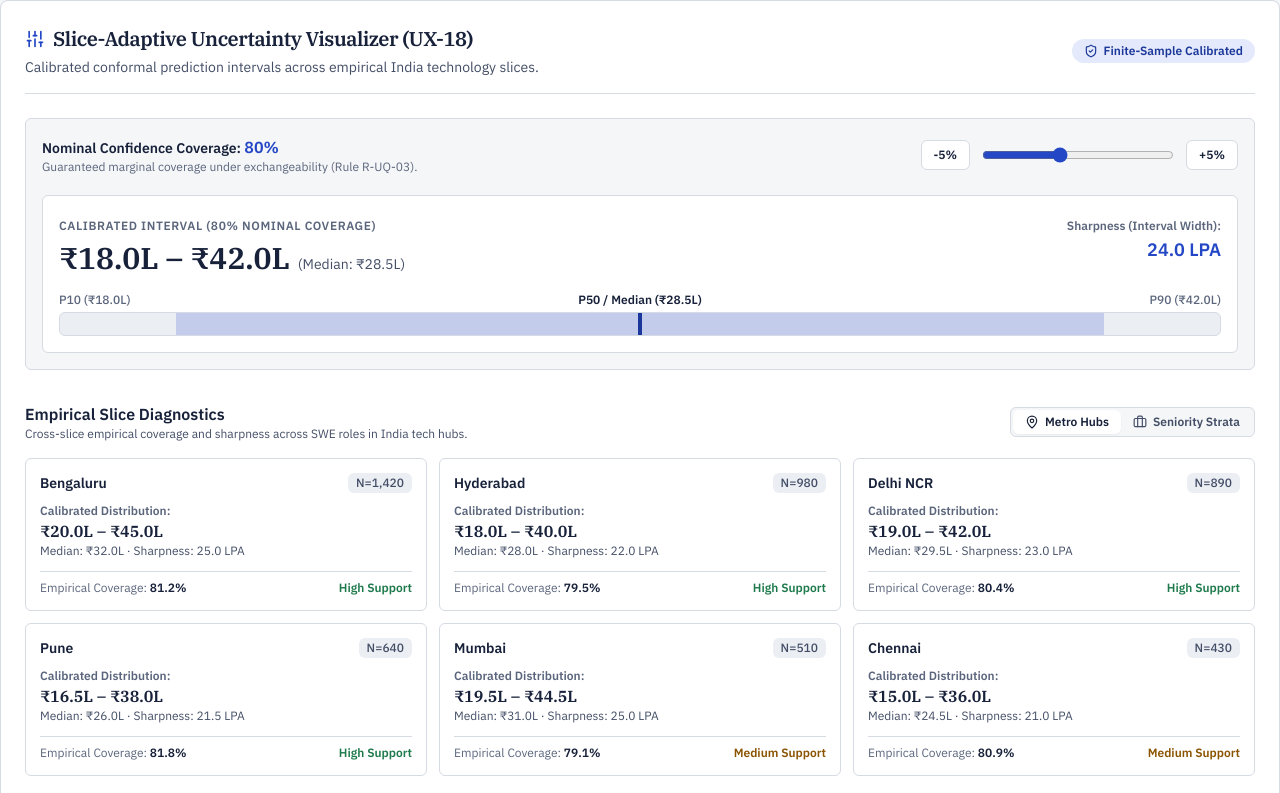
Test: SliceUncertaintyVisualizer (UX-18, Task T21.02) › dynamically adjusts interval width when coverage slider changes
The width and height of the screenshot is (1280, 793).
Set the slider named "Nominal confidence coverage percentage" to "70" at (990, 155), box [982,151,1174,159]
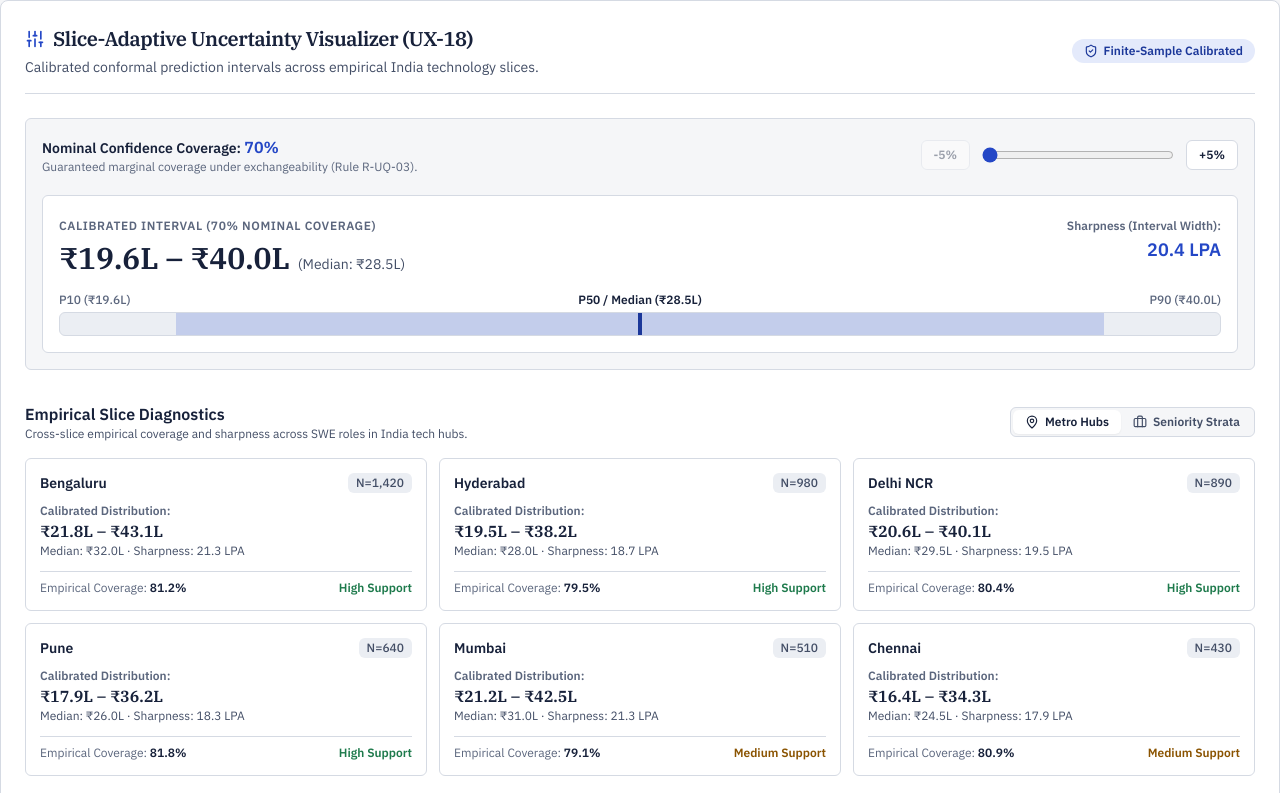
Now the text "₹19.6L – ₹40.0L(Median: ₹28.5L)" is shown, box [59,240,405,276]
Set the slider named "Nominal confidence coverage percentage" to "95" at (1166, 155), box [982,151,1174,159]
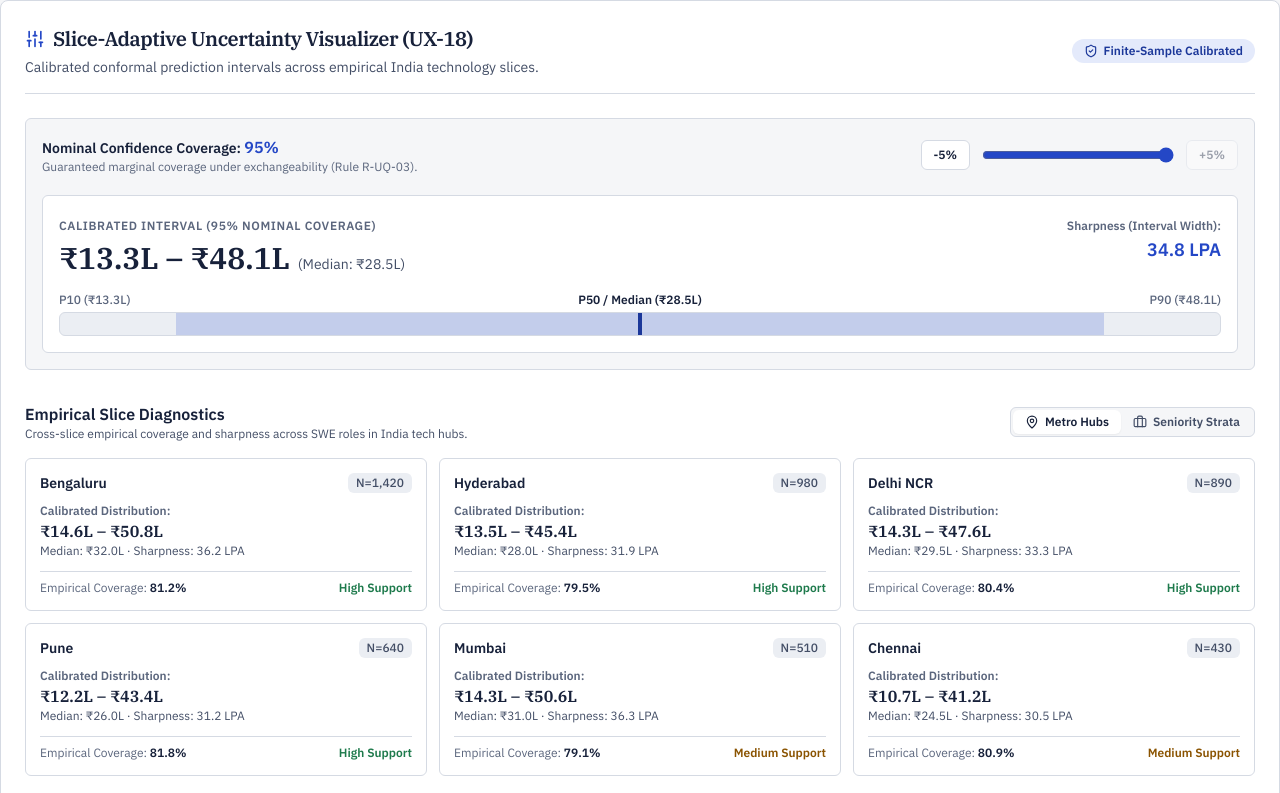
Now the text "₹13.3L – ₹48.1L(Median: ₹28.5L)" is shown, box [59,240,405,276]
